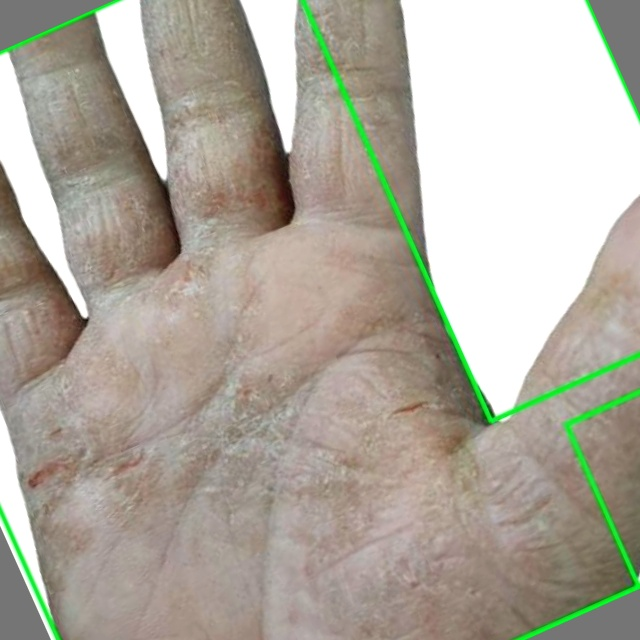Contact Dermatitis: (0, 0, 639, 639), (302, 0, 639, 421)
